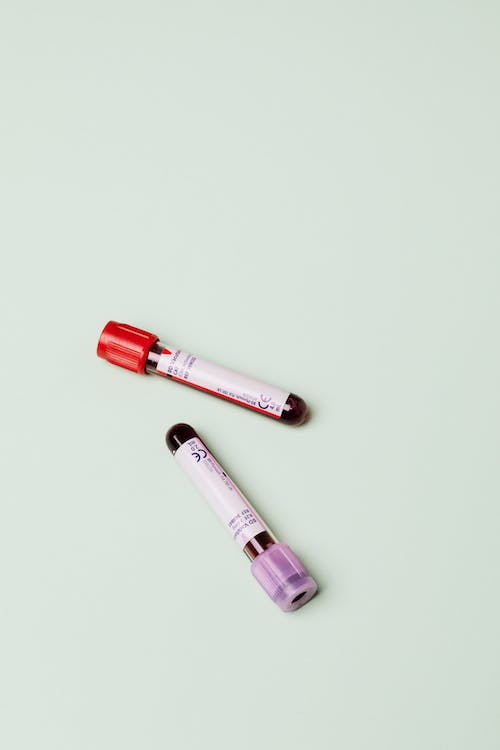blood: (164, 421, 280, 567), (144, 334, 308, 427)
